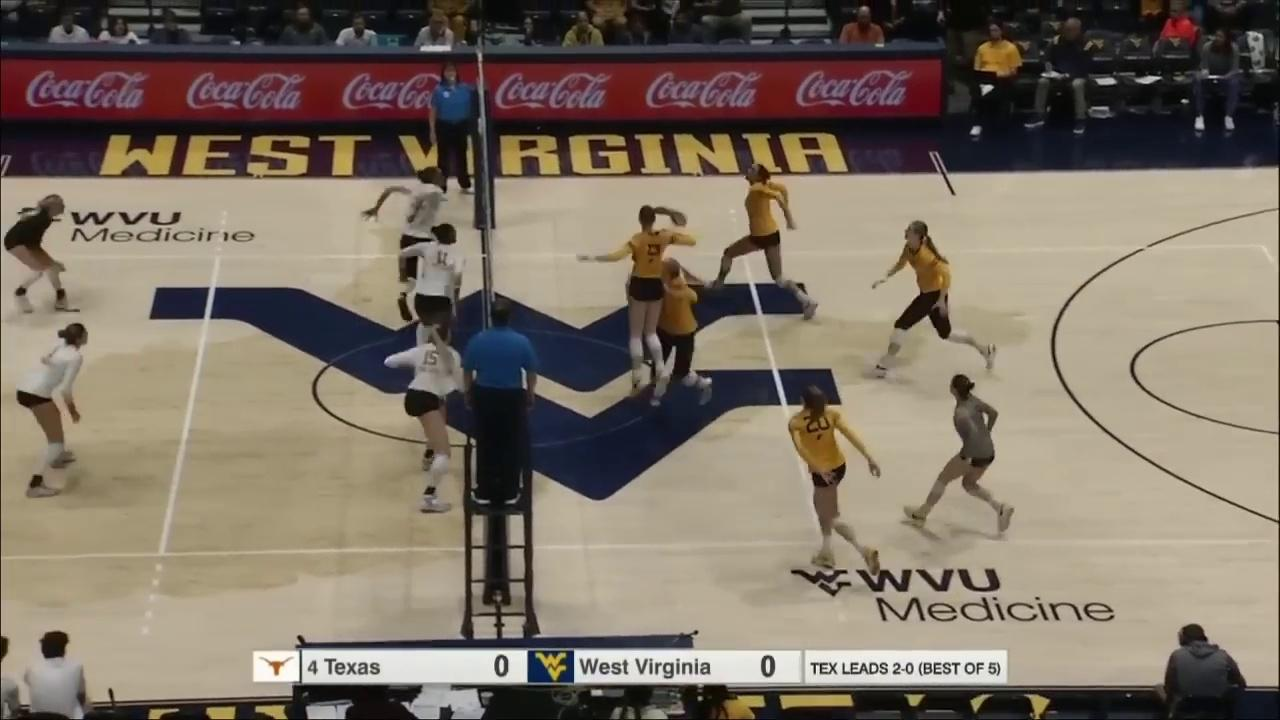player: (588, 205, 697, 398), (866, 220, 999, 375), (905, 375, 1011, 535), (790, 387, 881, 572), (714, 165, 817, 321), (19, 322, 98, 497), (389, 326, 461, 513), (377, 167, 453, 324), (405, 221, 465, 401), (647, 258, 715, 414), (6, 193, 84, 312)
refree: (460, 301, 538, 497), (429, 63, 475, 195)
